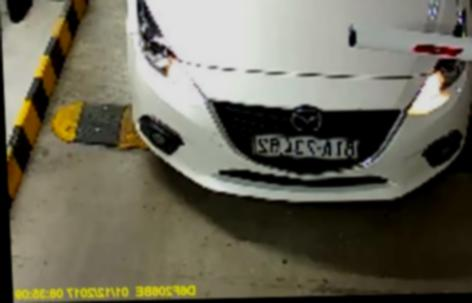License_Plate: (252, 134, 359, 165)
